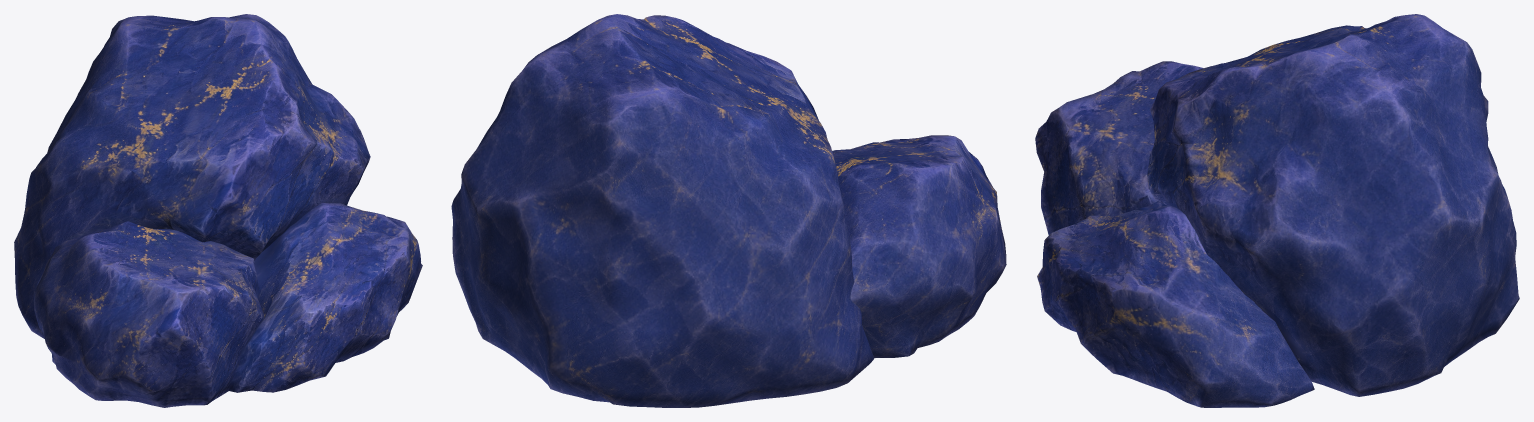
File: boulder.fbx
3 views of the same model, side by side, from view 1: azimuth 30°, elevation 25°; view 2: azimuth 150°, elevation 25°; view 3: azimuth 270°, elevation 25° (orthographic). The views are drawn at different scales.
Visible parts, largest first — view 1: boulder; view 2: boulder; view 3: boulder.
Boxes of the visible parts, x1,y1,x2,y2 form: boulder: (14, 14, 422, 407); boulder: (451, 14, 1006, 407); boulder: (1035, 14, 1519, 407).
Bounding box in the file's own units: 2.6 × 1.71 × 2.5.
